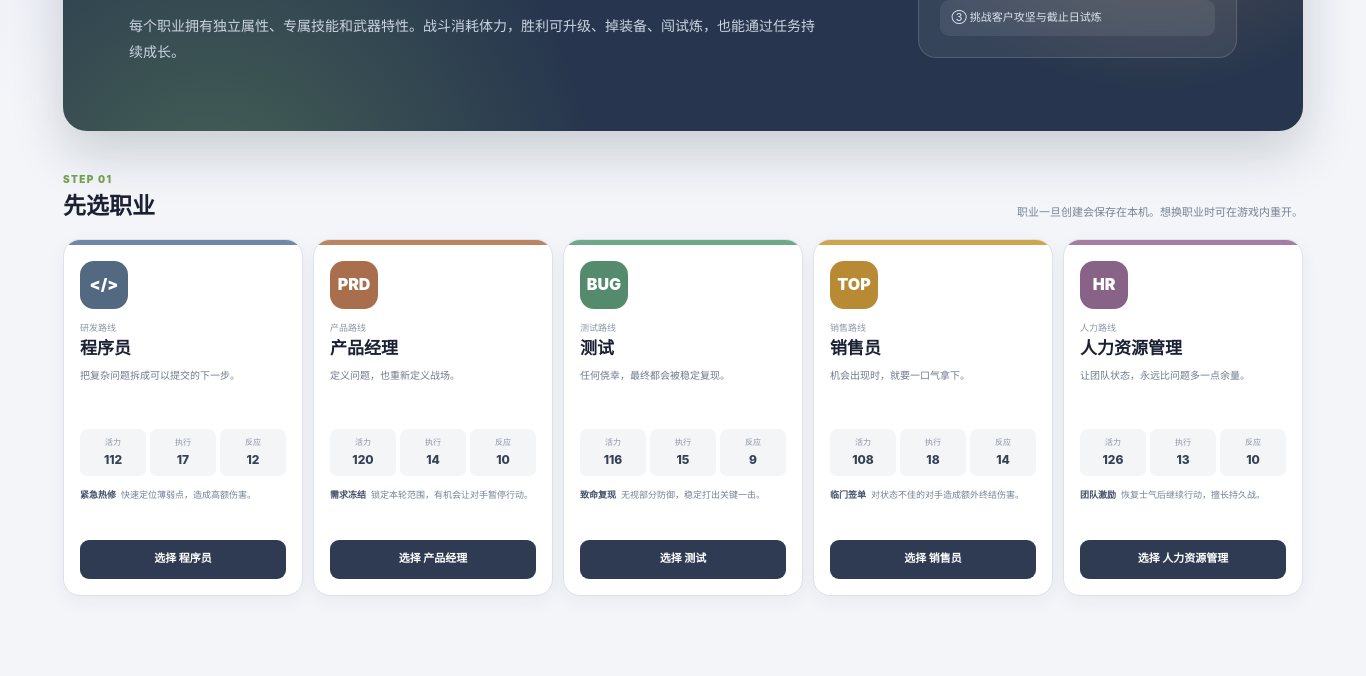
OfficeBattlePage › creates a six-slot loadout and persists a complete local battle loop
(page scrolled)
Click the button with aria-label "选择程序员": [183, 559] box [80,540,286,579]
(page scrolled)
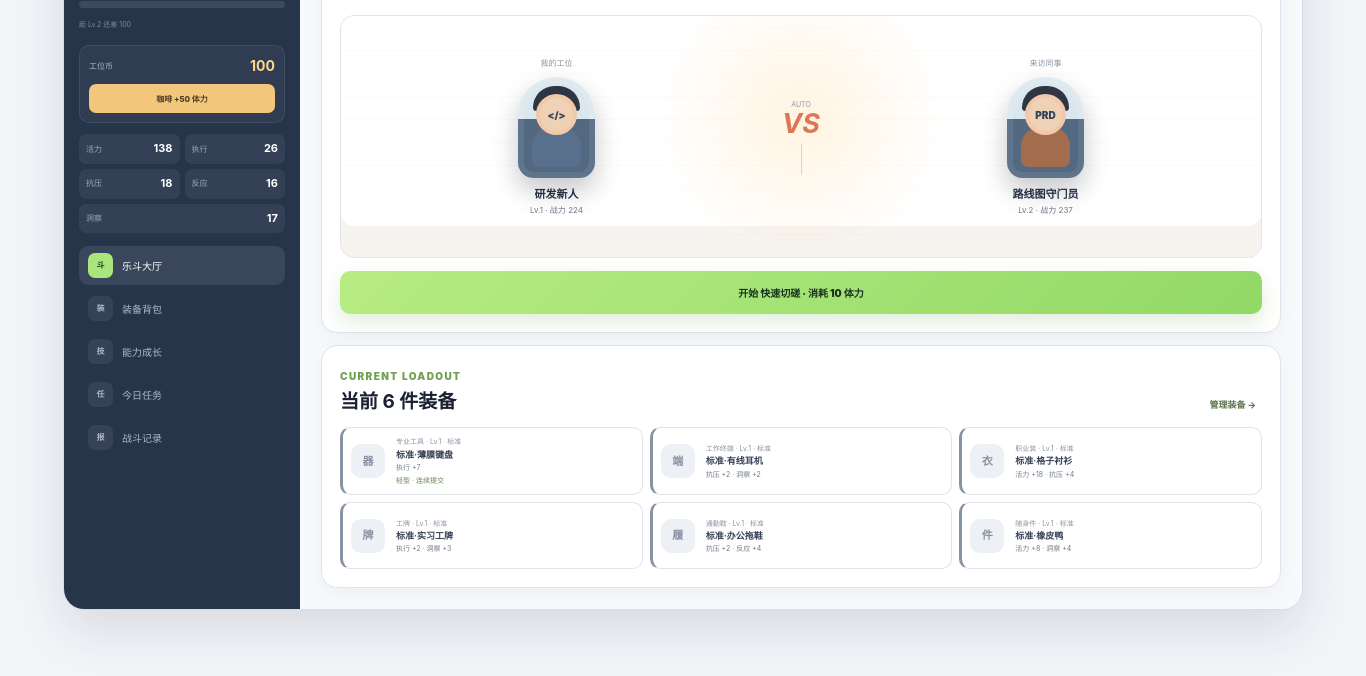
expect the heading "当前 6 件装备" is shown: met, box [340,390,461,414]
expect the text "标准·薄膜键盘" is shown: met, box [396,449,453,460]
expect the text "标准·薄膜键盘" is shown 6 times: met, box [396,449,453,460]; [706,455,763,466]; [1015,455,1072,466]; [396,530,453,541]; [706,530,763,541]; [1015,530,1063,541]
Click the button "开始 快速切磋 · 消耗 10 体力": [801, 293] box [340,271,1262,314]
(page scrolled)
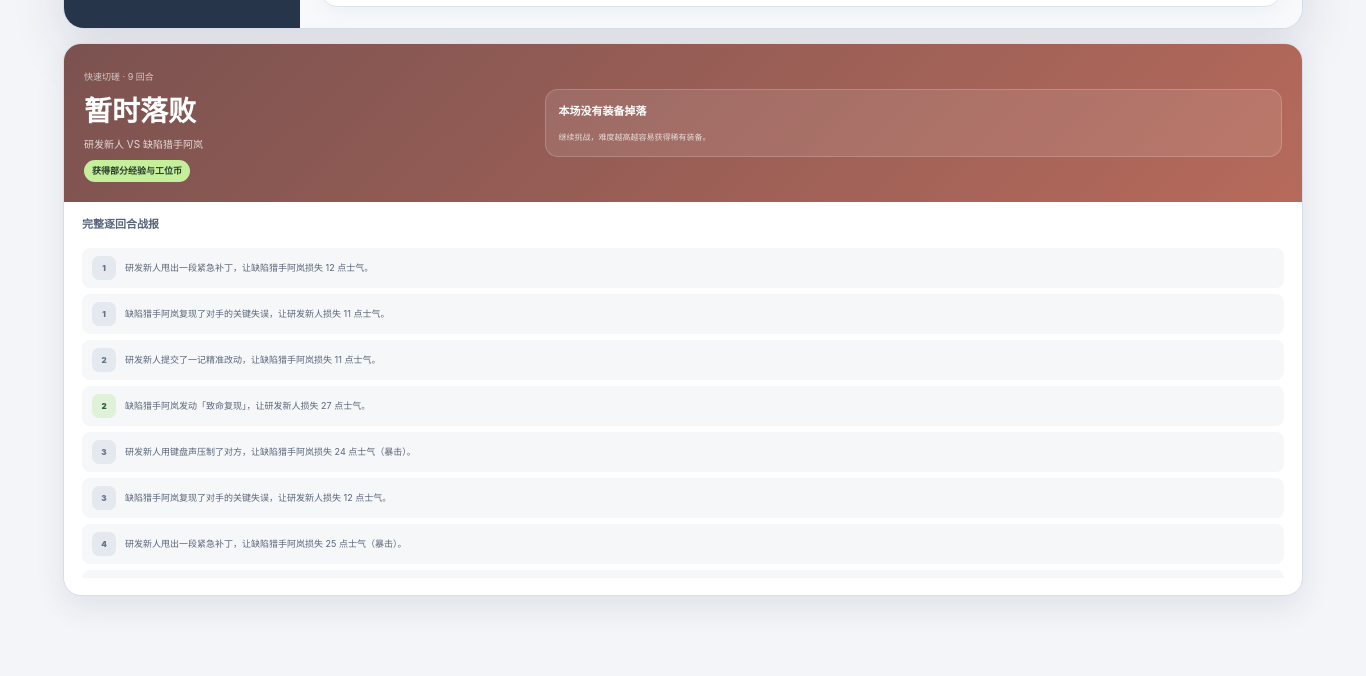
expect the text "暂时落败" is shown: met, box [84,94,196,128]
expect the list named "逐回合战报" is shown: met, box [82,248,1284,578]
